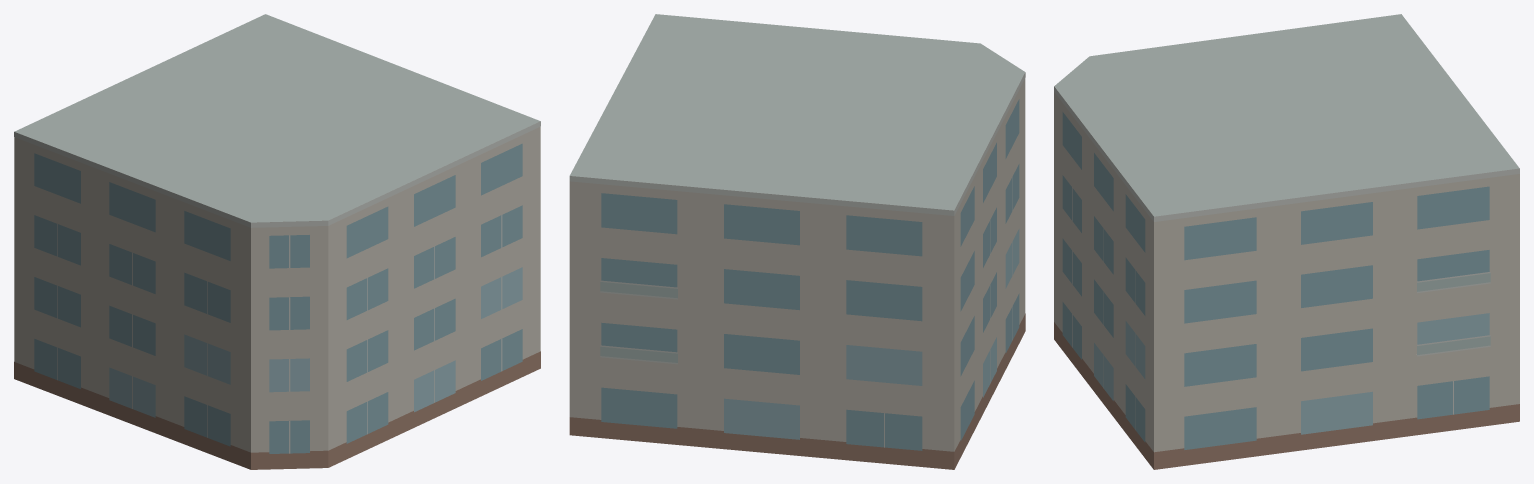
File: survey-upis-32835930.glb
The picture shows the model from 3 angles, left to right: view 1: azimuth 30°, elevation 25°; view 2: azimuth 150°, elevation 25°; view 3: azimuth 270°, elevation 25°; orthographic projection. The views are drawn at different scales.
Parts seen in each view (by area): view 1: survey-upis-32835930.tmp; view 2: survey-upis-32835930.tmp; view 3: survey-upis-32835930.tmp.
Boxes of the visible parts, left/top/right/bottom form: survey-upis-32835930.tmp: left=14, top=14, right=540, bottom=469; survey-upis-32835930.tmp: left=569, top=14, right=1025, bottom=469; survey-upis-32835930.tmp: left=1054, top=14, right=1519, bottom=469.
Size of the model in its own units: 19.76 by 11.5 by 19.18.
